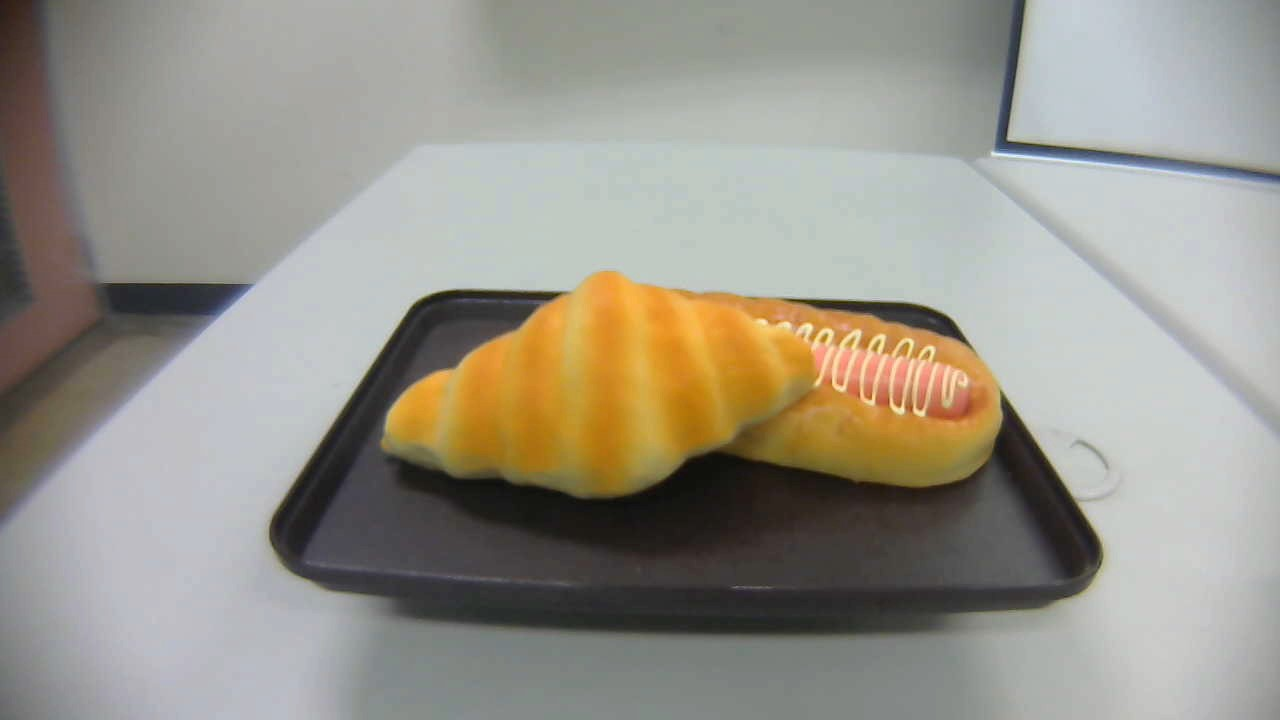croissant: (382, 276, 819, 497)
hot dog: (617, 289, 1005, 492)
